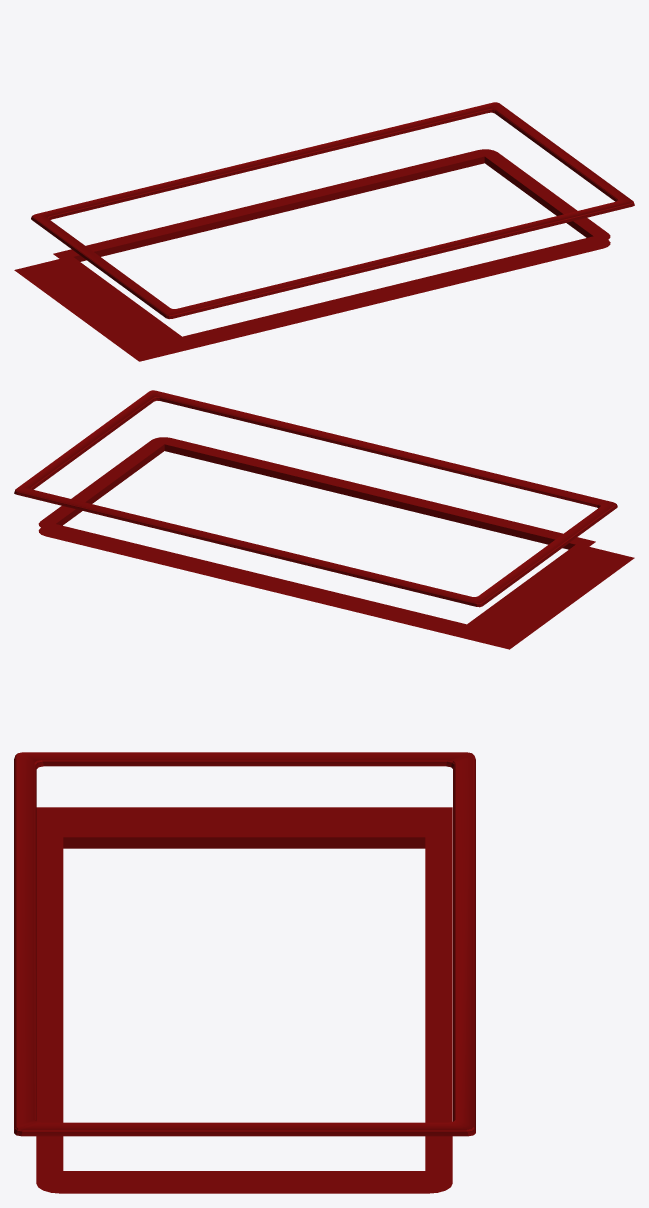
Rendered from DoormeshMicrowaveDoorC4_1_GeomSubset_1.obj.
The picture shows the model from 3 angles, top to bottom: view 1: azimuth 30°, elevation 25°; view 2: azimuth 150°, elevation 25°; view 3: azimuth 270°, elevation 25°; orthographic projection. The views are drawn at different scales.
Parts seen in each view (by area): view 1: DoormeshMicrowaveDoorC4_1_GeomSubset_1; view 2: DoormeshMicrowaveDoorC4_1_GeomSubset_1; view 3: DoormeshMicrowaveDoorC4_1_GeomSubset_1.
Part boxes in pixels (x1,y1,x2,y2): DoormeshMicrowaveDoorC4_1_GeomSubset_1: (14, 102, 634, 361); DoormeshMicrowaveDoorC4_1_GeomSubset_1: (14, 390, 634, 649); DoormeshMicrowaveDoorC4_1_GeomSubset_1: (14, 752, 475, 1193).
Bounding box in the file's own units: 0.477 × 0.1576 × 0.3147.
